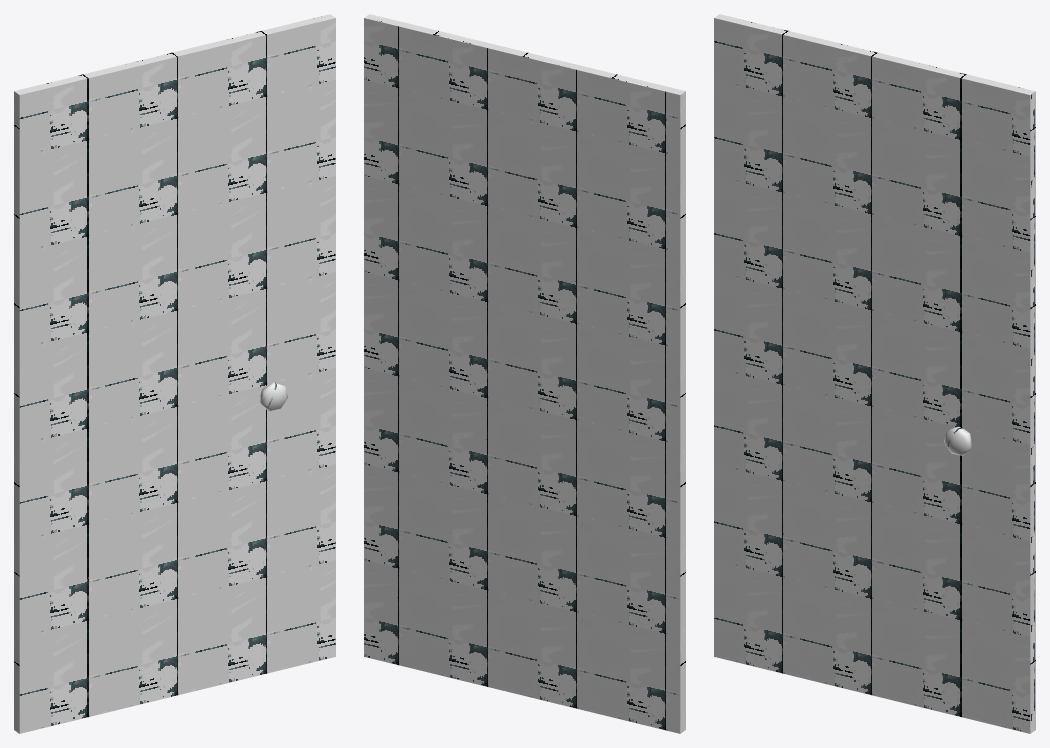
The model's file is WarddrobeDoorRight.FBX.
3 renders of one model, left to right at view 1: azimuth 30°, elevation 25°; view 2: azimuth 150°, elevation 25°; view 3: azimuth 330°, elevation 25°, orthographic.
Parts seen in each view (by area): view 1: WardDrobeDoorRight; view 2: WardDrobeDoorRight; view 3: WardDrobeDoorRight.
Boxes of the visible parts, x1,y1,x2,y2 form: WardDrobeDoorRight: (14,14,335,733); WardDrobeDoorRight: (364,14,685,733); WardDrobeDoorRight: (714,14,1035,733).
Bounding box in the file's own units: 1.89 × 0.1514 × 3.64.
Materials: 1 (1 with a texture image).
